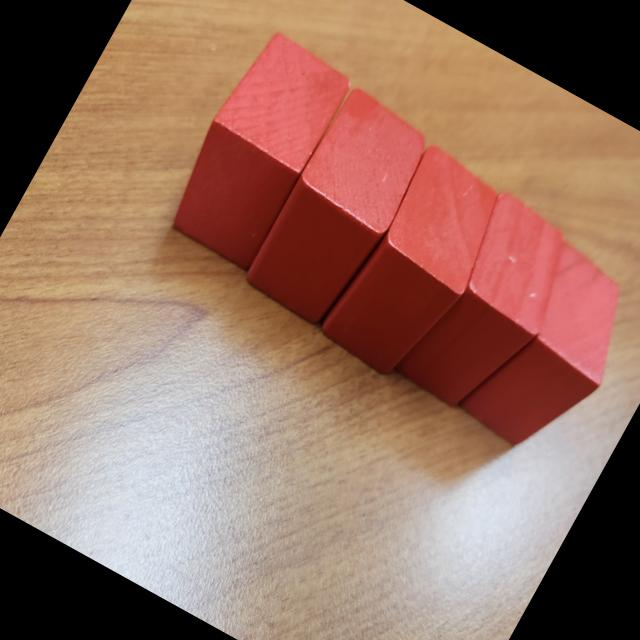red: (154, 23, 360, 276), (316, 140, 520, 390), (240, 82, 442, 334), (392, 184, 594, 427), (452, 233, 640, 469)
